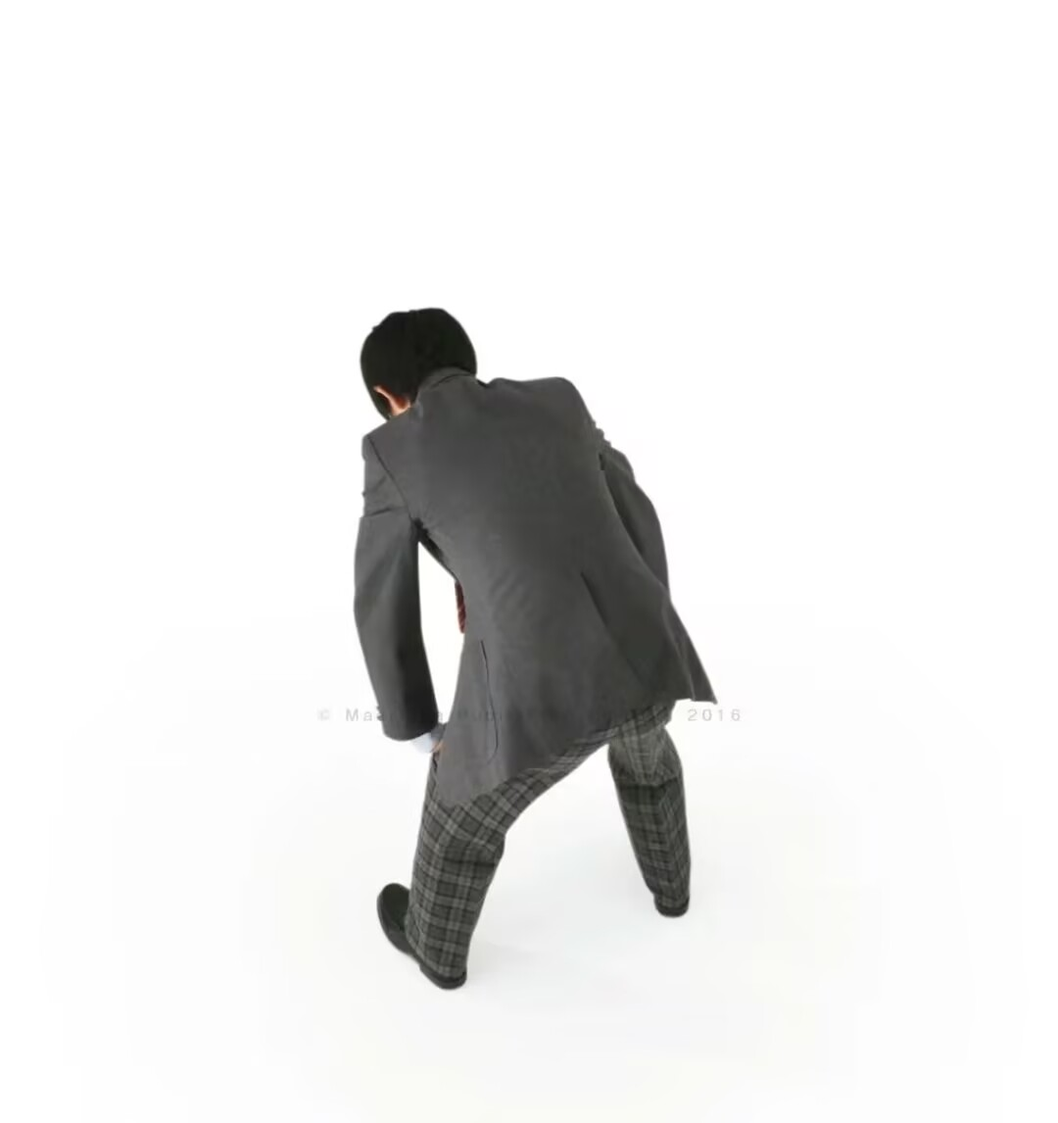bending: (285, 268, 723, 994)
